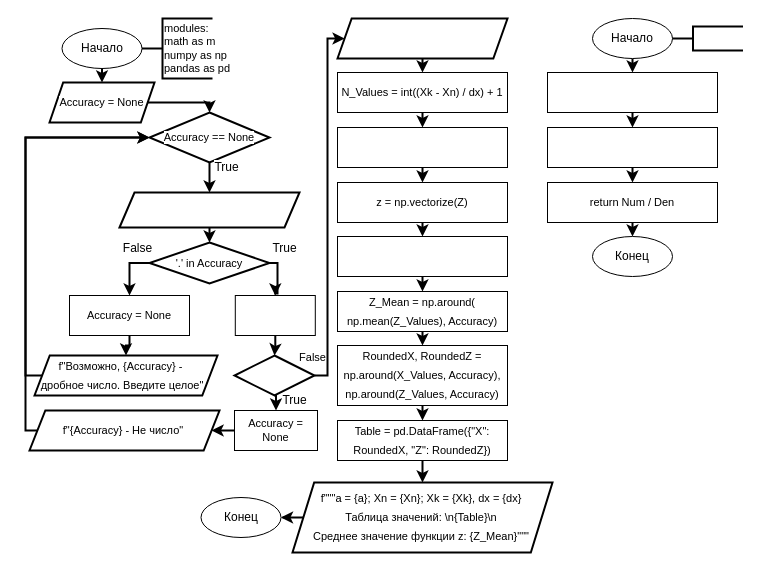
This 761x570 diagram has some shape labels left out. Each missing label, with the centre of its shape:
a, Xn, Xk, dx = 5.27, 1, 10, 1: point 422,38
Accuracy = input( 'Введите значение точности: '): point 209,209
Accuracy = int(Accuracy): point 274,315
def Z(x): point 718,38
Den = (a**7 + x ** (1 / 2)) ** (1 / 2): point 632,147
Num = (x**3 + a * x) ** (1 / 4): point 632,92
ValueError: point 274,375
X_Values = np.linspace(Xn, Xk, N_Values): point 422,147
Z_Values = z(X_Values): point 422,256
